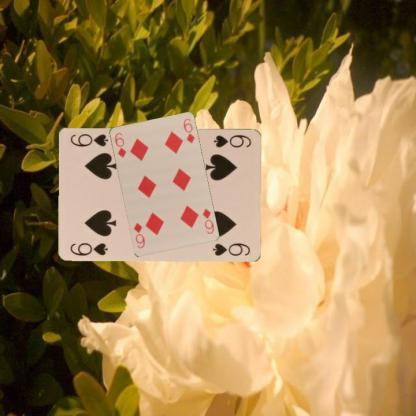6d: (112, 130, 127, 159), (200, 206, 215, 235)
6s: (68, 240, 109, 257), (211, 132, 252, 148)
